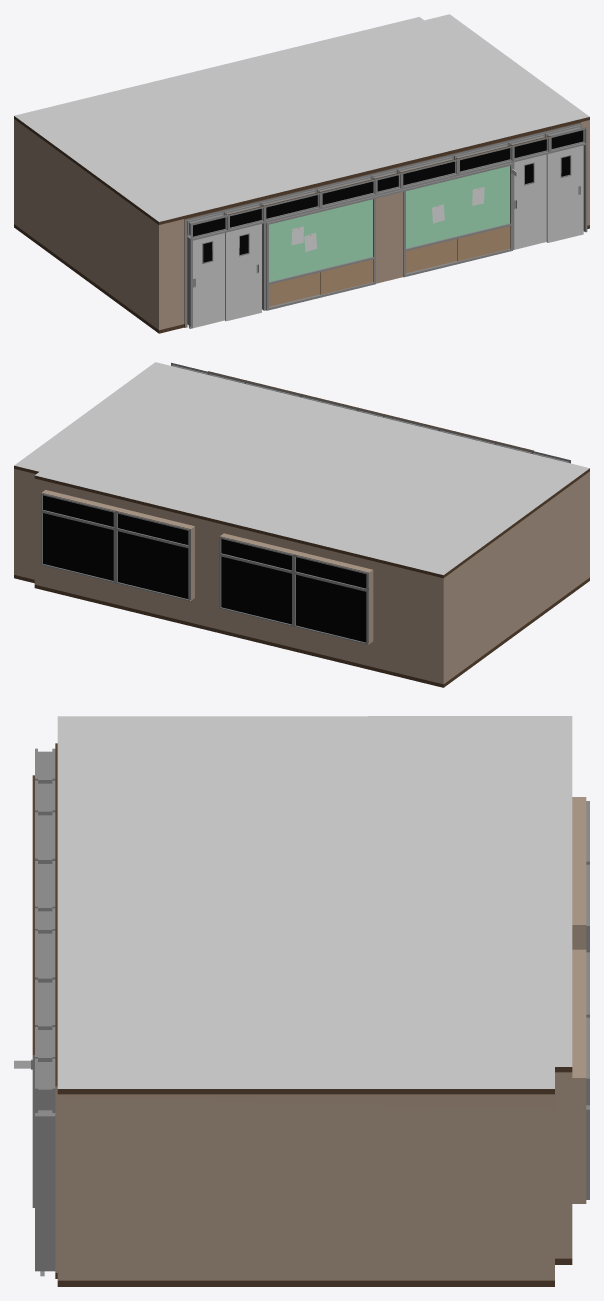
Rendered from classroomENV.fbx.
3 views of the same model, one above another, from view 1: azimuth 30°, elevation 25°; view 2: azimuth 150°, elevation 25°; view 3: azimuth 270°, elevation 25° (orthographic). The views are drawn at different scales.
Parts seen in each view (by area): view 1: room, windows, Plane.007, Plane.008, Plane.005, Plane.009; view 2: room, windows; view 3: room.
Part boxes in pixels (x1,y1,x2,y2): room: (14, 14, 589, 333); windows: (193, 130, 582, 236); Plane.007: (546, 145, 583, 242); Plane.008: (225, 224, 261, 321); Plane.005: (514, 154, 546, 249); Plane.009: (189, 233, 224, 328); room: (14, 362, 589, 687); windows: (43, 495, 366, 642); room: (14, 716, 589, 1286).
Bounding box in the file's own units: 4494 × 1114 × 2935.
